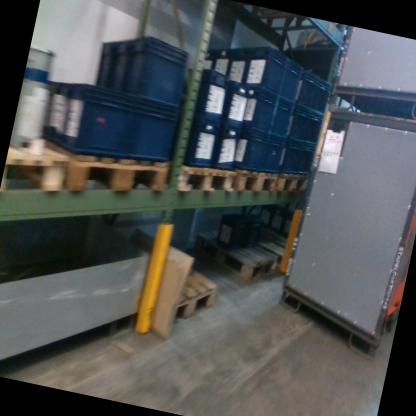pallet: (28, 129, 174, 218), (183, 218, 283, 287), (0, 133, 74, 212), (159, 254, 223, 342), (231, 6, 340, 43), (169, 157, 238, 208), (252, 225, 301, 277), (235, 158, 279, 198), (275, 163, 314, 193)
small_load_carrier: (53, 74, 133, 159), (120, 36, 192, 109), (115, 94, 182, 167), (178, 55, 236, 127), (38, 71, 83, 152), (94, 28, 136, 96), (242, 41, 290, 100), (234, 83, 280, 139), (176, 117, 223, 171), (232, 121, 272, 176), (218, 77, 254, 130), (273, 50, 305, 108), (232, 210, 264, 263), (212, 121, 245, 171), (216, 208, 252, 252), (264, 98, 295, 147), (280, 105, 311, 154), (292, 65, 321, 115), (224, 41, 253, 90), (301, 106, 326, 153), (258, 136, 285, 177), (277, 138, 304, 176), (210, 43, 235, 84), (309, 81, 331, 120), (194, 42, 218, 77), (296, 141, 319, 176)
